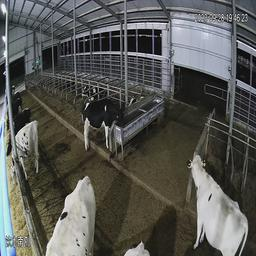cow: (188, 141, 251, 251), (42, 175, 102, 254), (79, 95, 125, 153), (7, 120, 44, 188), (8, 101, 32, 128)
